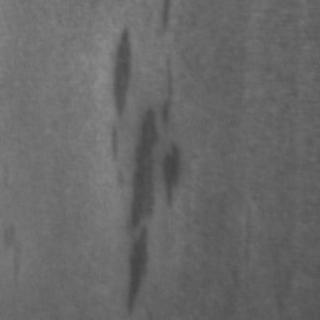inclusion: (120, 54, 180, 314), (102, 23, 138, 163), (154, 136, 186, 210), (2, 221, 34, 283), (158, 1, 175, 36)
